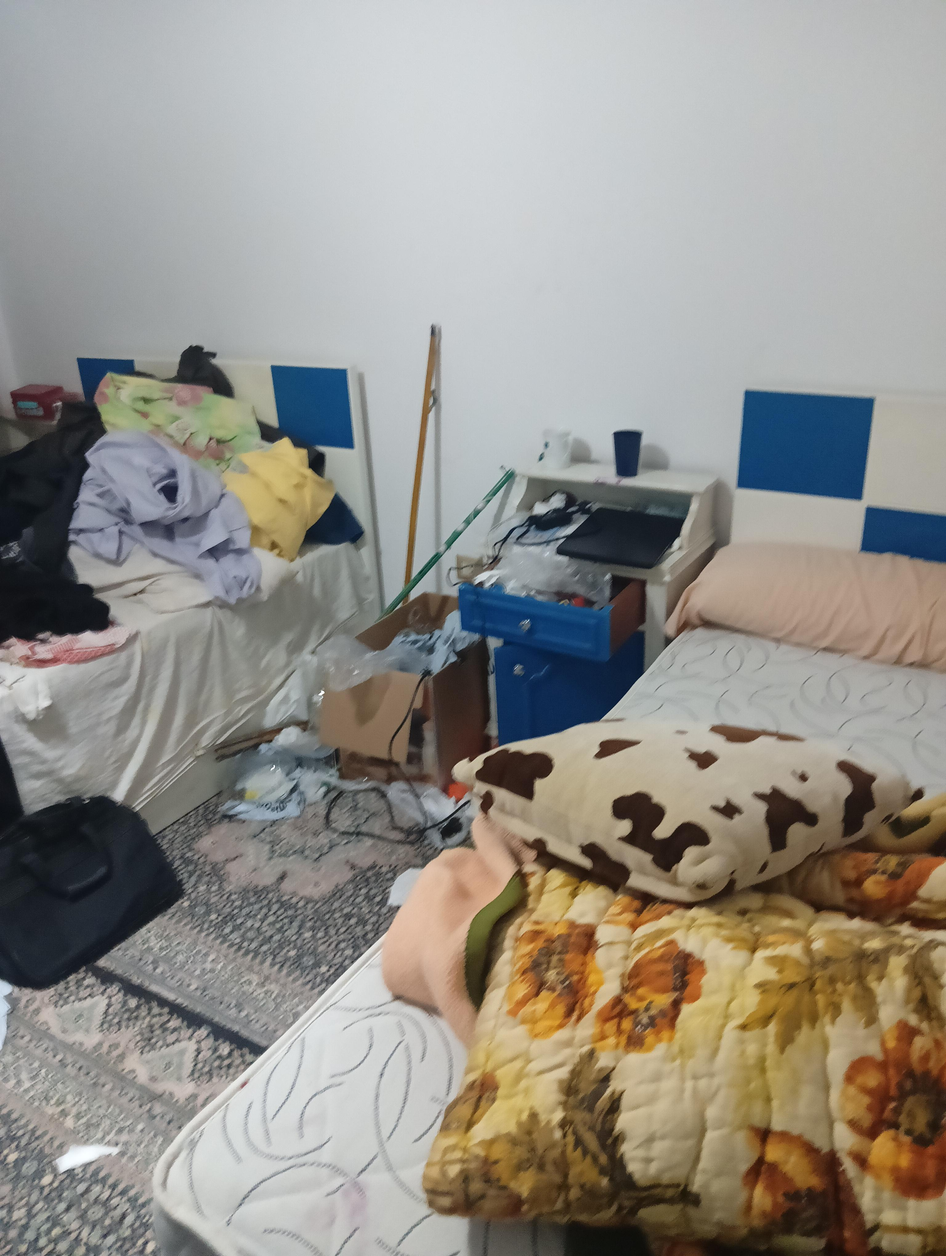cup: (613, 429, 642, 477), (540, 429, 571, 471)
